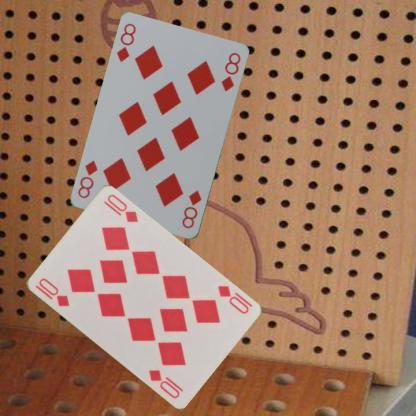10d: (32, 275, 70, 308), (214, 282, 250, 316)
8d: (114, 21, 137, 64), (180, 188, 203, 230)
